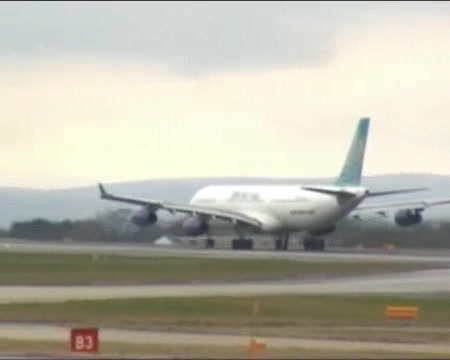aeroplane: (99, 117, 430, 254)
